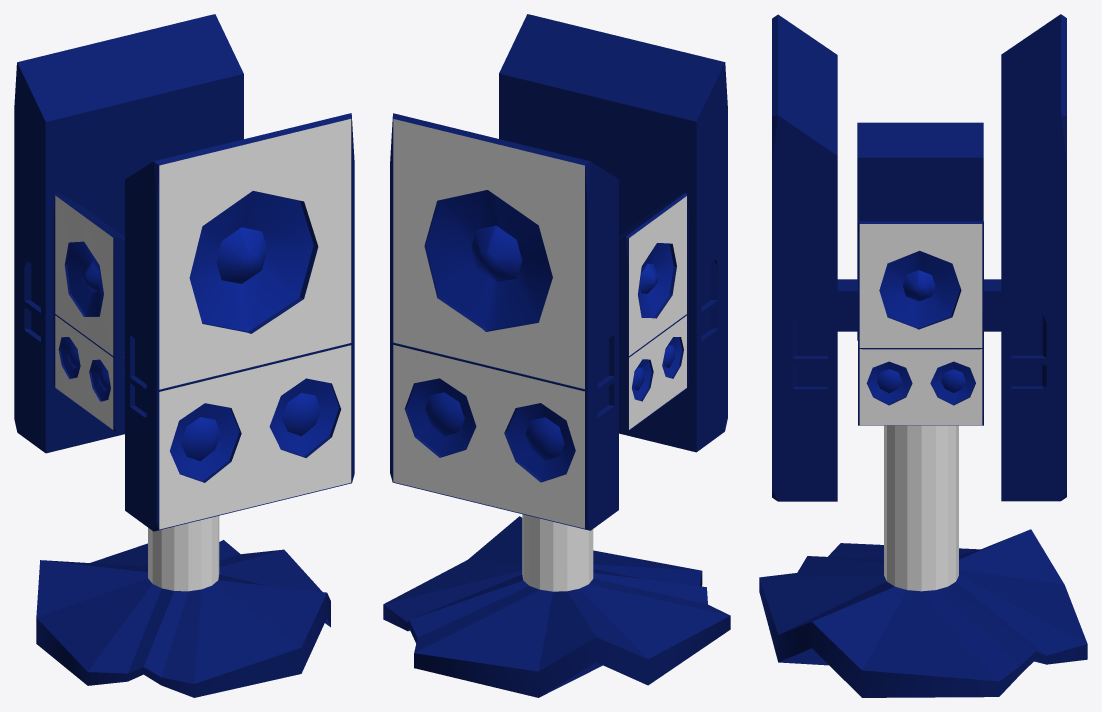
The model's file is Altavoz.fbx.
3 views of the same model, side by side, from view 1: azimuth 30°, elevation 25°; view 2: azimuth 150°, elevation 25°; view 3: azimuth 270°, elevation 25° (orthographic). The views are drawn at different scales.
Visible parts, largest first — view 1: Rotatorio, Tripode; view 2: Rotatorio, Tripode; view 3: Rotatorio, Tripode.
Part boxes in pixels (<box>): Rotatorio: <box>14,14,354,531</box>; Tripode: <box>36,516,330,697</box>; Rotatorio: <box>390,14,727,530</box>; Tripode: <box>383,514,730,697</box>; Rotatorio: <box>772,14,1066,501</box>; Tripode: <box>759,425,1087,697</box>.
Size of the model in its own units: 64.59 by 124 by 64.59.
